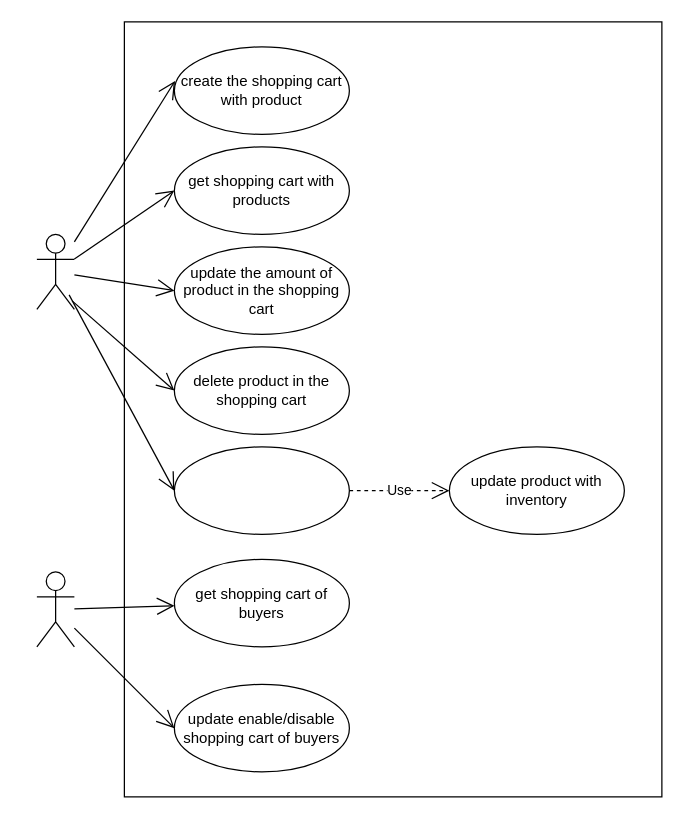
The diagram is 684 pixels wide and 819 high, and some of its shapes have lost their labels. Each missing label, with the box of its shape:
Buyer: (36, 233, 74, 309)
check out the shopping cart: (173, 446, 349, 534)
SysAdmin: (36, 571, 74, 647)
